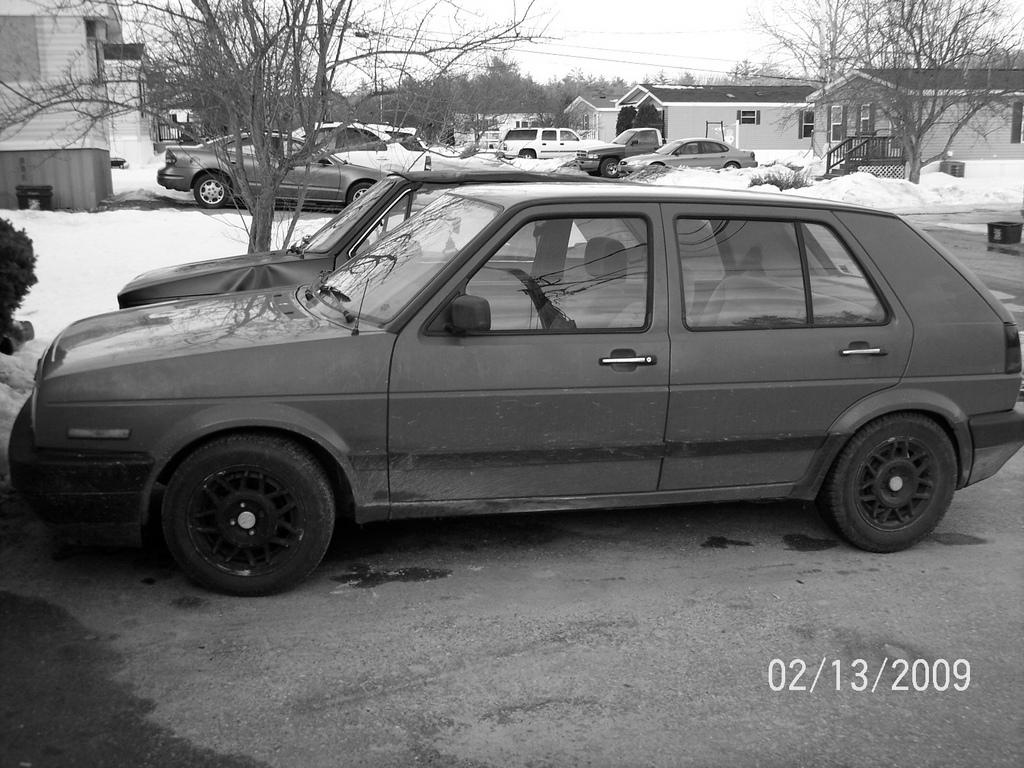car: (7, 162, 1022, 604)
